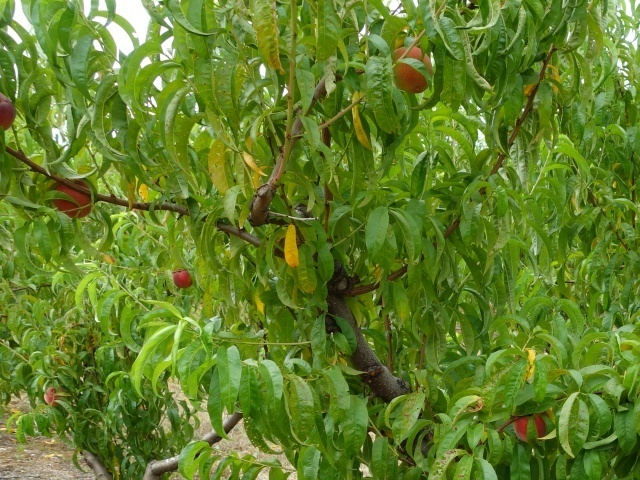peach: (382, 42, 437, 96), (45, 172, 99, 222), (508, 402, 553, 446), (166, 263, 196, 294), (1, 93, 22, 135), (37, 382, 67, 408)
